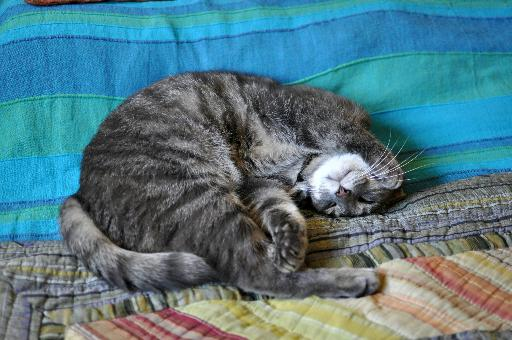cat_sleeping: (59, 71, 403, 298)
